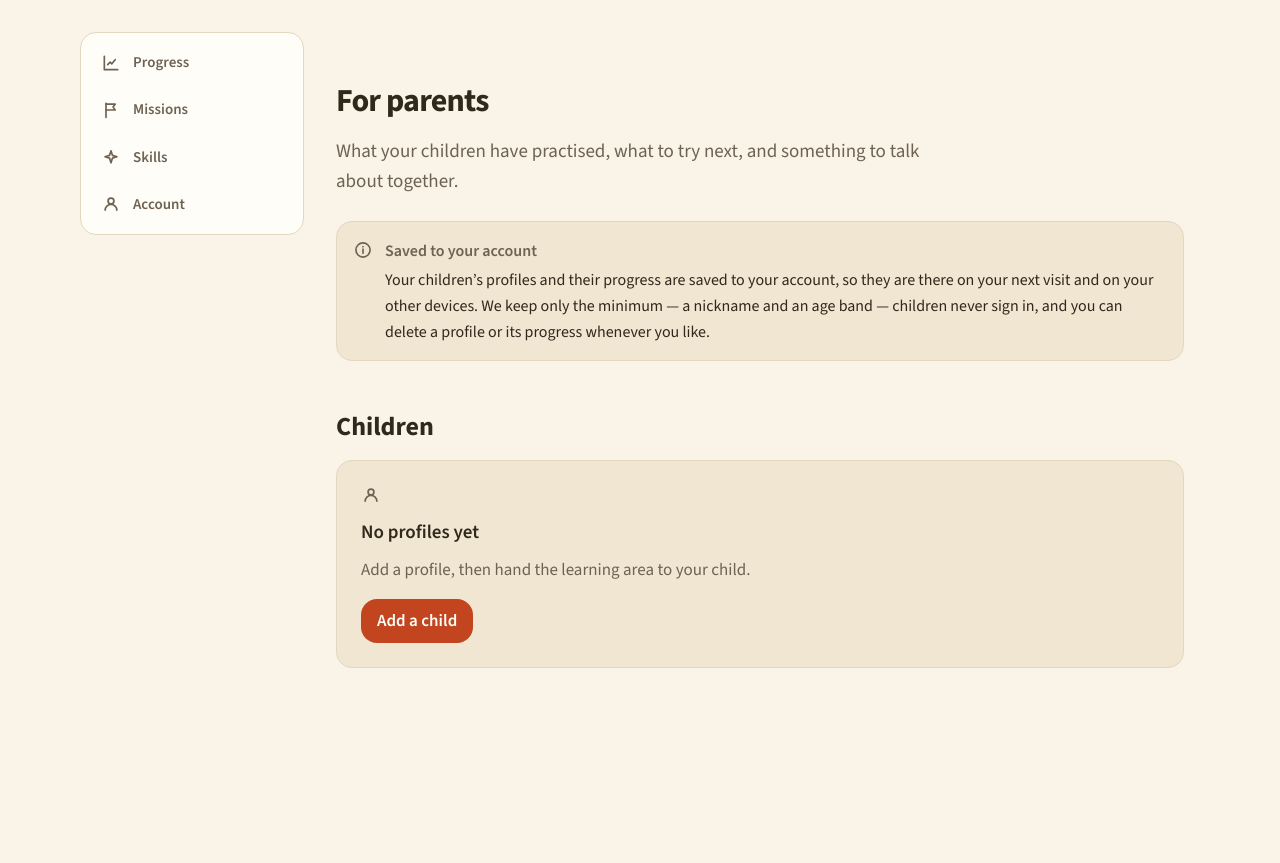
creating profiles › says so rather than saving an empty nickname
Click the button "Add a child".
click(417, 621)  # box [361, 599, 473, 643]
(page scrolled)
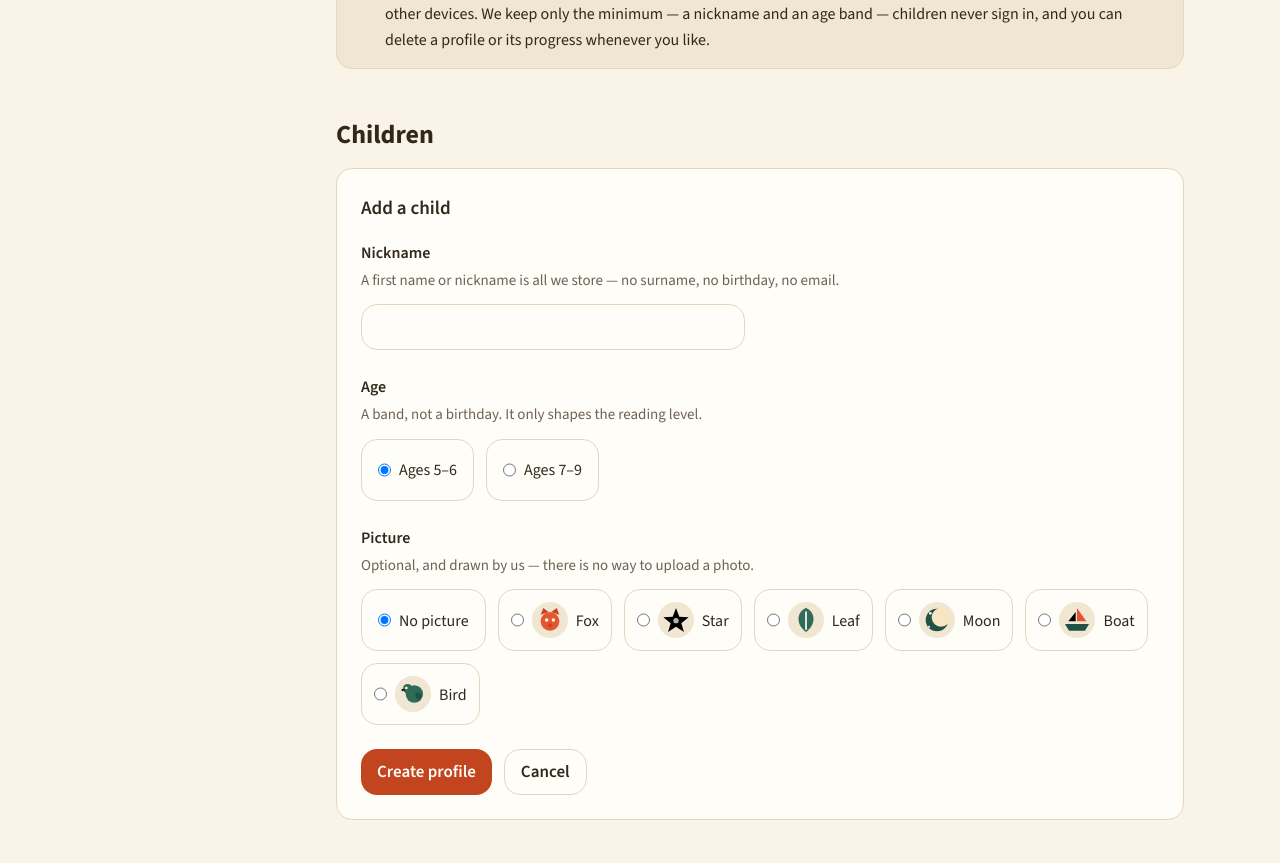
Click the button "Create profile".
click(426, 772)  # box [361, 749, 492, 795]
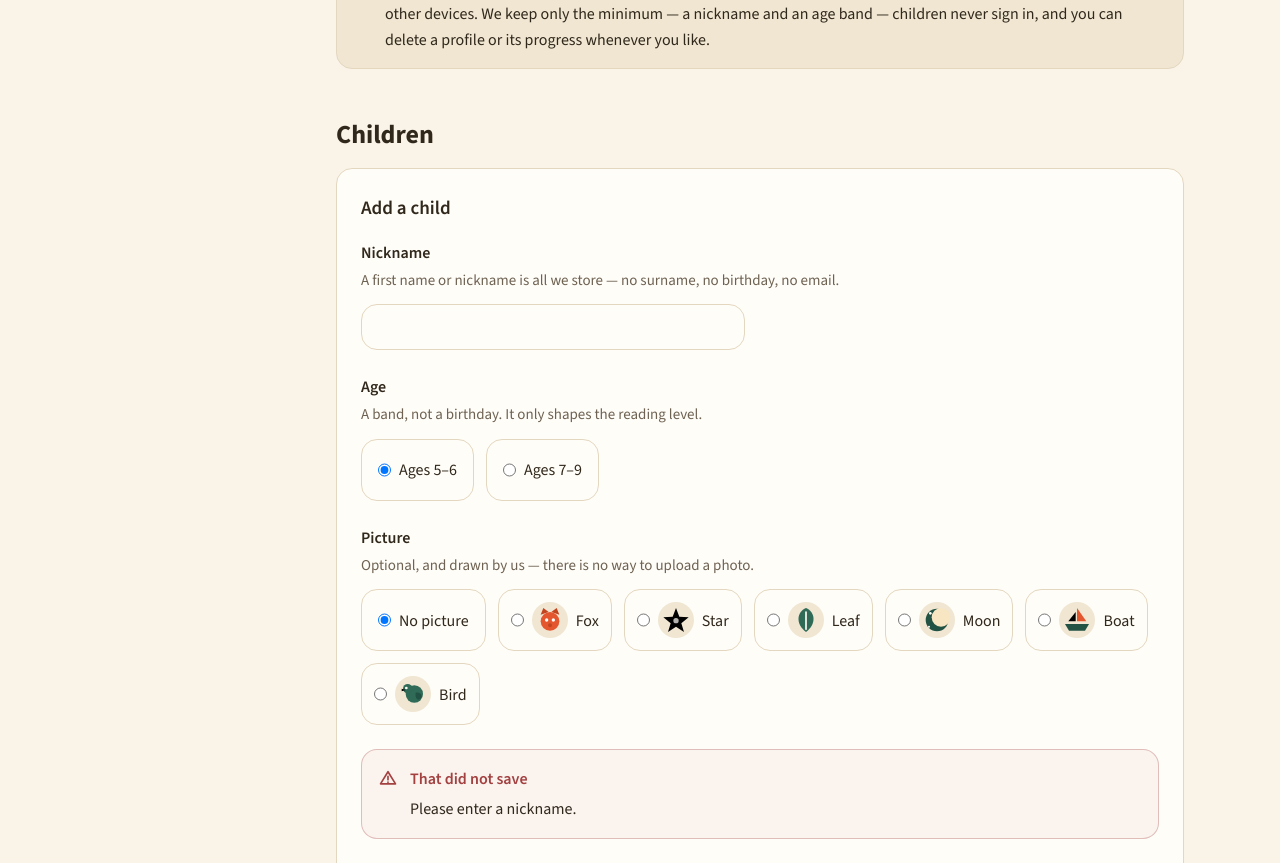
expect the text "Please enter a nickname." is shown: met, box [410, 796, 576, 822]
